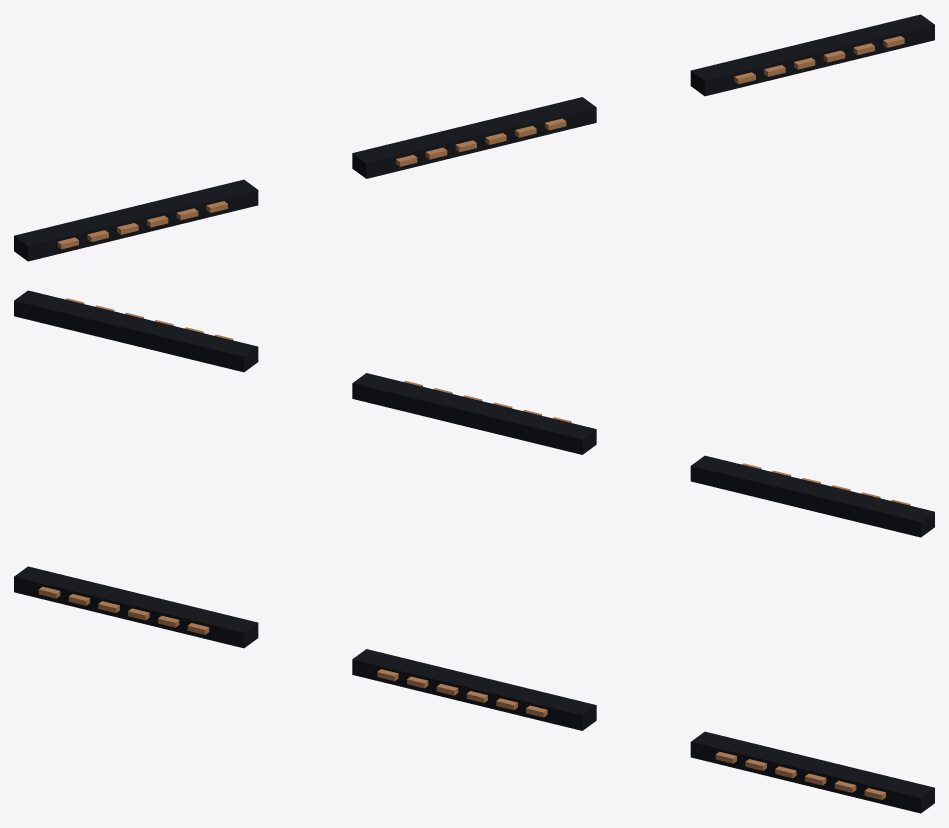
File: 31_PS_Table_RearCableManagement.fbx
3 views of the same model, one above another, from view 1: azimuth 30°, elevation 25°; view 2: azimuth 150°, elevation 25°; view 3: azimuth 330°, elevation 25° (orthographic).
Parts seen in each view (by area): view 1: PS_Table_RearCableManagement; view 2: PS_Table_RearCableManagement; view 3: PS_Table_RearCableManagement.
Boxes of the visible parts, x1,y1,x2,y2 form: PS_Table_RearCableManagement: [14, 14, 934, 261]; PS_Table_RearCableManagement: [14, 290, 934, 537]; PS_Table_RearCableManagement: [14, 566, 934, 813].
Size of the model in its own units: 670 by 11 by 23.5.
